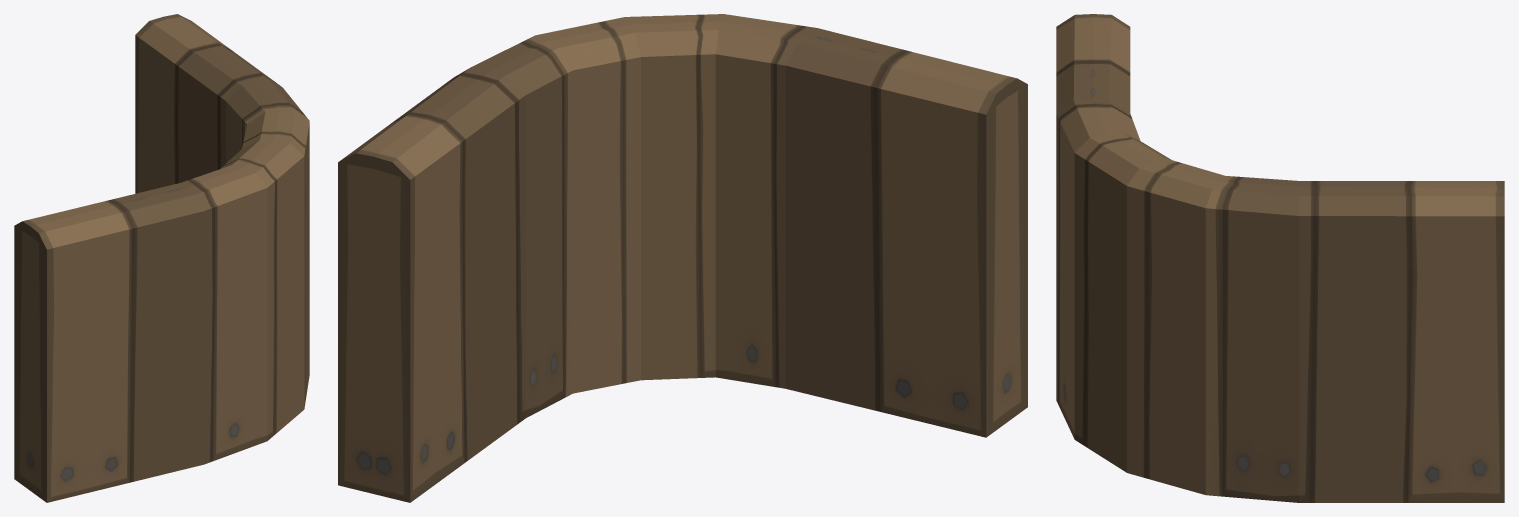
Rendered from SM_Bld_Wall_Railing_01_Curved_01.fbx.
3 views of the same model, side by side, from view 1: azimuth 30°, elevation 25°; view 2: azimuth 150°, elevation 25°; view 3: azimuth 270°, elevation 25° (orthographic). The views are drawn at different scales.
Parts seen in each view (by area): view 1: SM_Bld_Wall_Railing_01_Curved_01; view 2: SM_Bld_Wall_Railing_01_Curved_01; view 3: SM_Bld_Wall_Railing_01_Curved_01.
Boxes of the visible parts, x1=… form: SM_Bld_Wall_Railing_01_Curved_01: x1=14, y1=14, x2=309, y2=502; SM_Bld_Wall_Railing_01_Curved_01: x1=338, y1=14, x2=1027, y2=502; SM_Bld_Wall_Railing_01_Curved_01: x1=1056, y1=14, x2=1504, y2=502.
Size of the model in its own units: 136 by 101 by 136.
